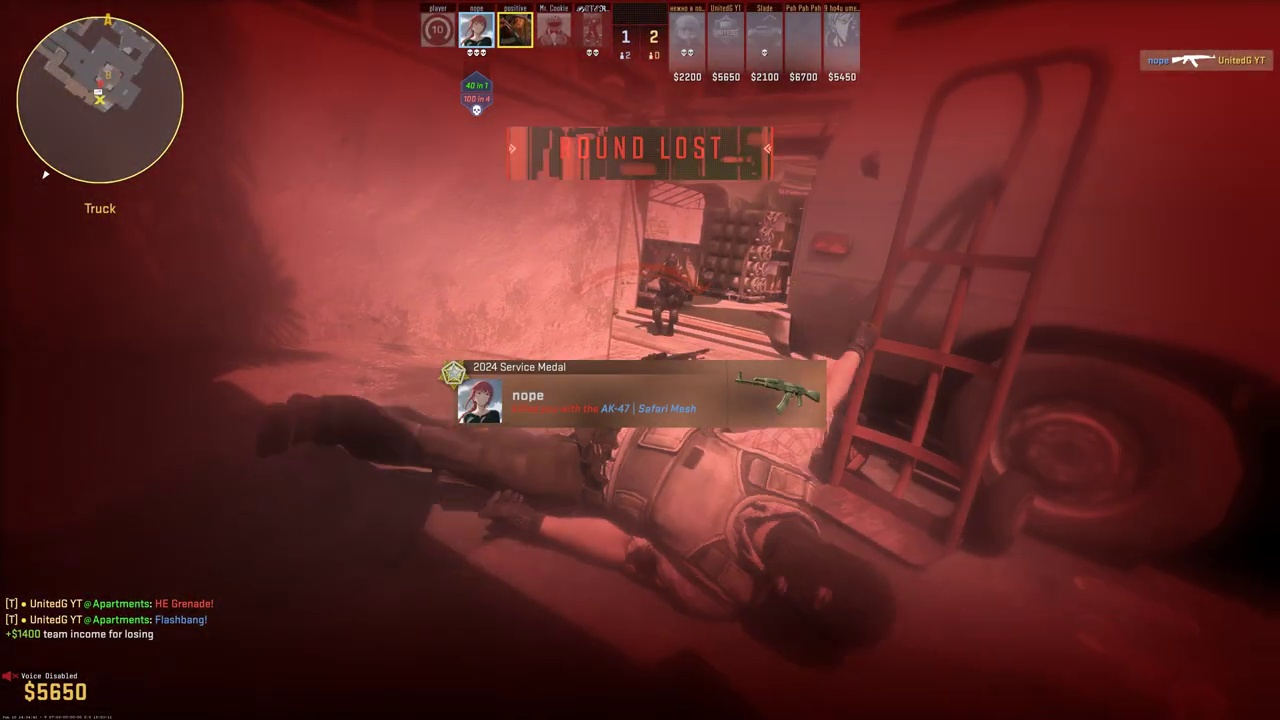CT: (651, 258, 687, 338)
